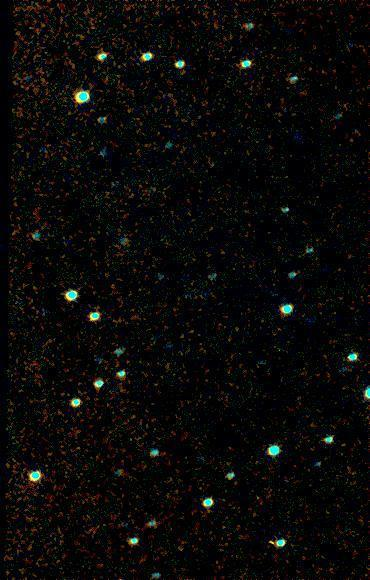star: (259, 527, 289, 557)
